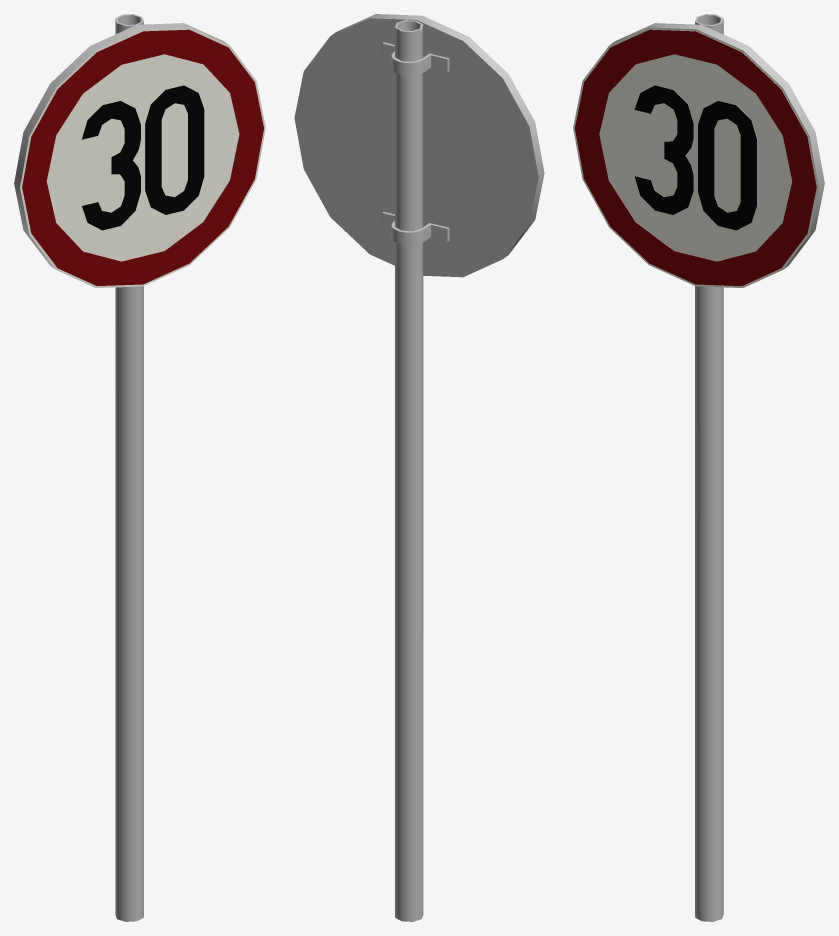
3 views of the same model, side by side, from view 1: azimuth 30°, elevation 25°; view 2: azimuth 150°, elevation 25°; view 3: azimuth 330°, elevation 25° (orthographic).
Visible parts, largest first — view 1: 30; view 2: 30; view 3: 30.
Part boxes in pixels (x1,y1,x2,y2): 30: (14,14,265,921); 30: (294,14,544,921); 30: (573,14,824,921).
Size of the model in its own units: 603 by 2102 by 95.5.
